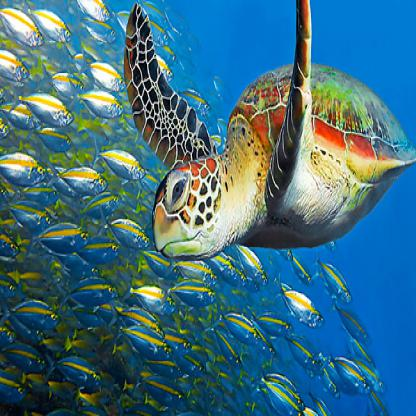turtle: (146, 144, 234, 273)
